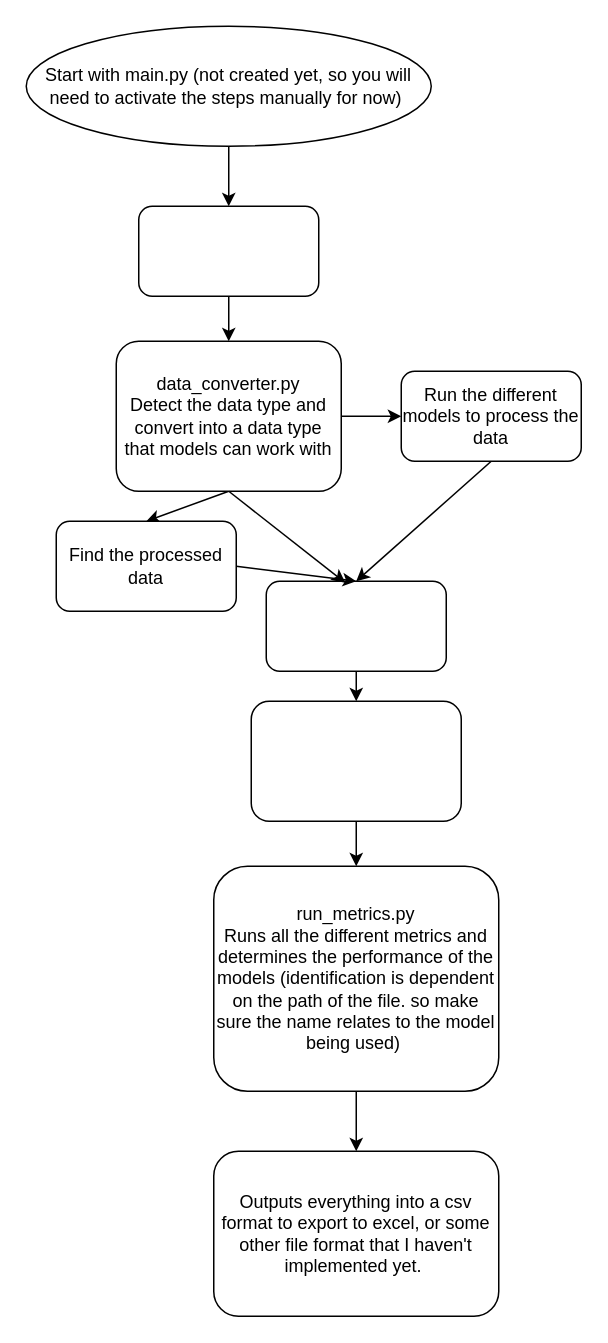
Image size: 608x1343. Some labels were removed from this diagram. Here are the shapes that lost their labels. From the top down, the centre of each, then its label:
At point 228,250: "Provide the data (directory or file paths)".
At point 355,625: "Store everything into a directory to be processed".
At point 355,760: "data_loader.py Loads all the required files for testing purposes".
